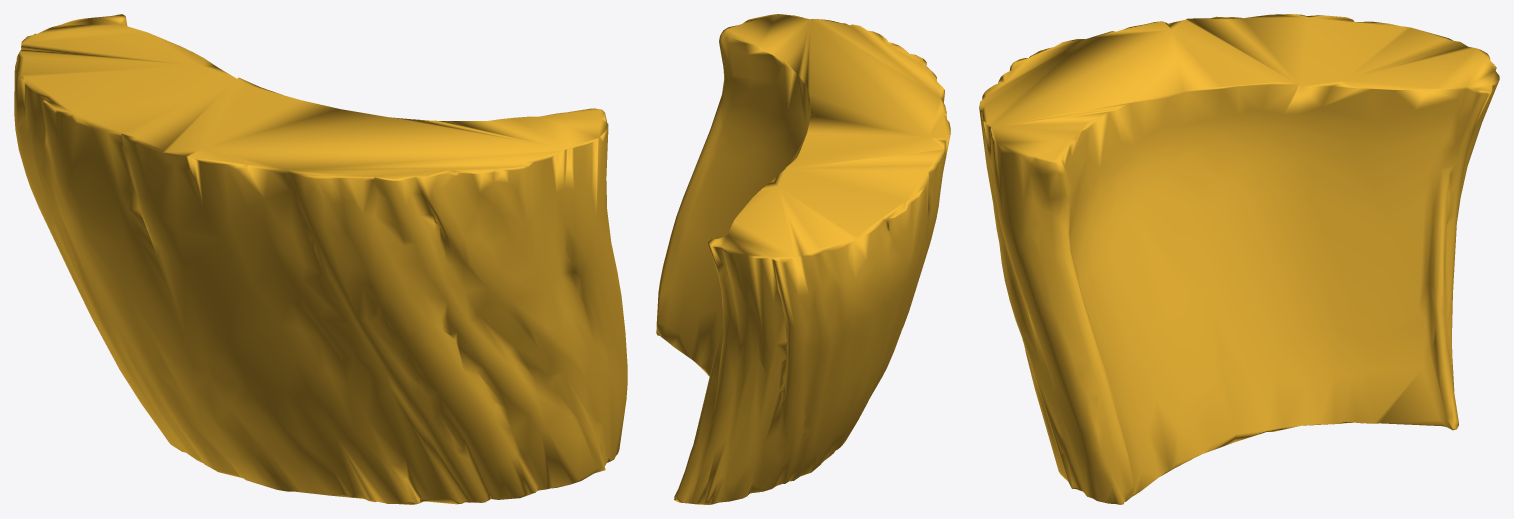
Rendered from nervoso-base-of-peduncle-r.glb.
3 views of the same model, side by side, from view 1: azimuth 30°, elevation 25°; view 2: azimuth 150°, elevation 25°; view 3: azimuth 270°, elevation 25° (orthographic). The views are drawn at different scales.
Parts seen in each view (by area): view 1: Base of peduncle.r; view 2: Base of peduncle.r; view 3: Base of peduncle.r.
Part boxes in pixels (x1=…): Base of peduncle.r: x1=14, y1=14, x2=627, y2=504; Base of peduncle.r: x1=656, y1=14, x2=950, y2=504; Base of peduncle.r: x1=979, y1=14, x2=1499, y2=504.
Size of the model in its own units: 0.0188 by 0.0163 by 0.0223.
